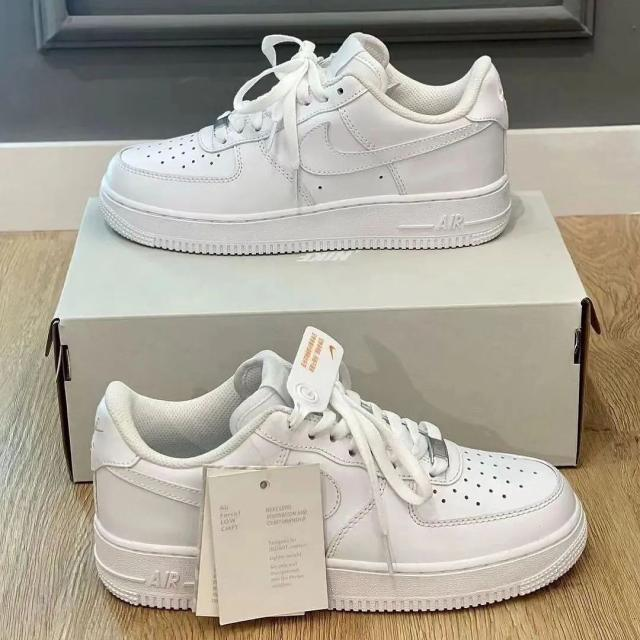nike original air force: (86, 350, 584, 620), (96, 32, 516, 258)
